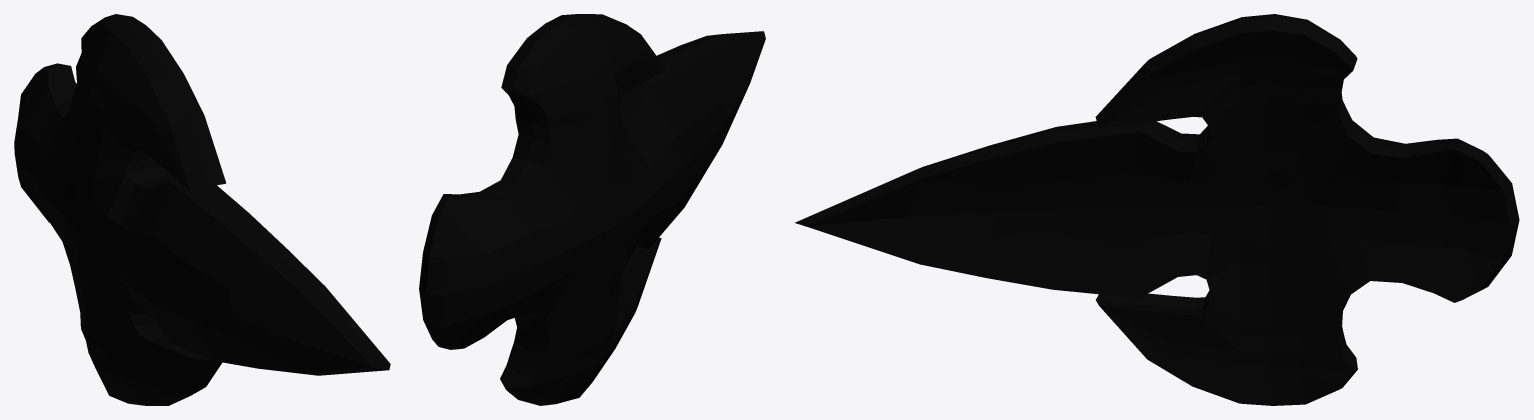
Rendered from gesetz_outer_aura.obj.
The picture shows the model from 3 angles, left to right: view 1: azimuth 30°, elevation 25°; view 2: azimuth 150°, elevation 25°; view 3: azimuth 270°, elevation 25°; orthographic projection. The views are drawn at different scales.
Parts seen in each view (by area): view 1: Gesetz_gesetz; view 2: Gesetz_gesetz; view 3: Gesetz_gesetz.
Boxes of the visible parts, x1=… form: Gesetz_gesetz: x1=14, y1=14, x2=390, y2=405; Gesetz_gesetz: x1=419, y1=14, x2=765, y2=405; Gesetz_gesetz: x1=795, y1=14, x2=1519, y2=405.
Size of the model in its own units: 0.3284 by 1.24 by 2.11.
